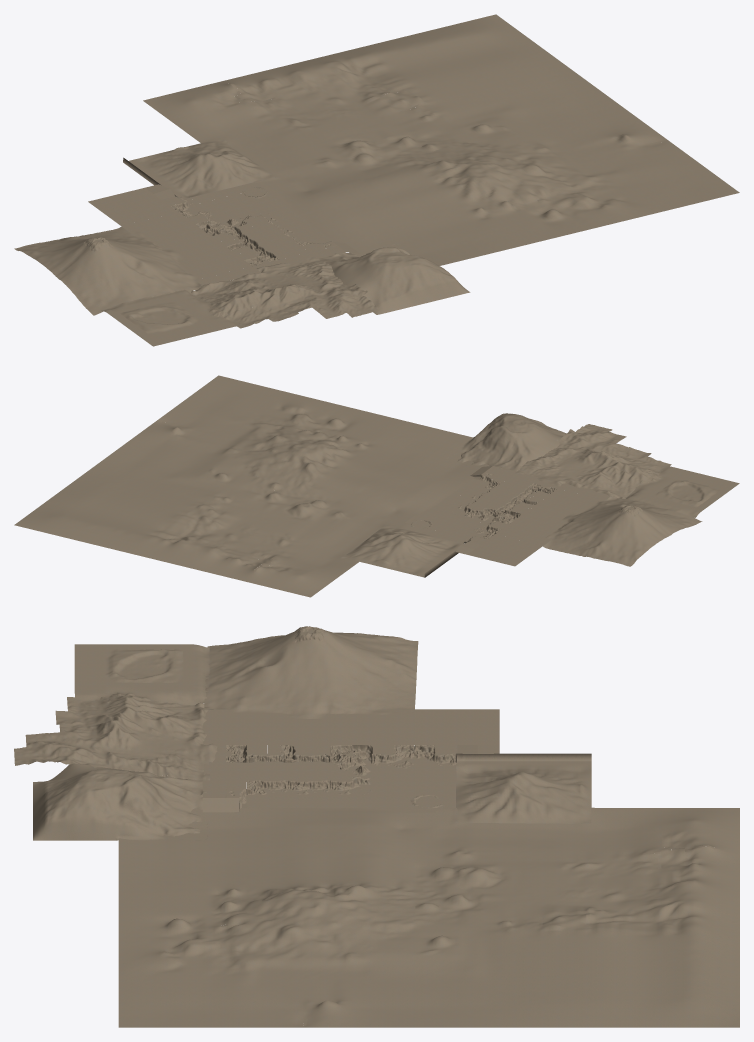
The model's file is terrain-arena.glb.
The picture shows the model from 3 angles, top to bottom: view 1: azimuth 30°, elevation 25°; view 2: azimuth 150°, elevation 25°; view 3: azimuth 270°, elevation 25°; orthographic projection. The views are drawn at different scales.
Parts seen in each view (by area): view 1: Object_9, Object_3, Object_6, Object_4, Object_11, Object_2, Object_10, Object_5, Object_7; view 2: Object_9, Object_3, Object_4, Object_6, Object_11, Object_2, Object_10, Object_5, Object_7; view 3: Object_9, Object_3, Object_6, Object_4, Object_11, Object_10, Object_2, Object_5, Object_7.
Part boxes in pixels (box(x1,y1,x2,y2)): Object_9: box(143, 14, 739, 265); Object_3: box(121, 186, 337, 280); Object_6: box(16, 224, 202, 315); Object_4: box(191, 257, 379, 328); Object_11: box(319, 241, 470, 314); Object_2: box(14, 83, 662, 307); Object_10: box(123, 139, 276, 198); Object_5: box(101, 289, 241, 346); Object_7: box(120, 300, 202, 335); Object_9: box(14, 375, 489, 597); Object_3: box(405, 471, 604, 545); Object_4: box(515, 424, 671, 498); Object_6: box(537, 496, 702, 566); Object_11: box(443, 413, 566, 471); Object_2: box(161, 421, 634, 571); Object_10: box(341, 525, 468, 577); Object_5: box(625, 465, 739, 517); Object_7: box(652, 478, 721, 507); Object_9: box(118, 807, 739, 1027); Object_3: box(225, 709, 456, 812); Object_6: box(204, 630, 418, 718); Object_4: box(14, 692, 217, 780); Object_11: box(33, 763, 212, 841); Object_10: box(455, 753, 591, 823); Object_2: box(106, 641, 715, 1025); Object_5: box(74, 644, 209, 705); Object_7: box(105, 649, 183, 682).
Bounding box in the file's own units: 1555 × 99.03 × 1254.
1 material, 1 textured.
